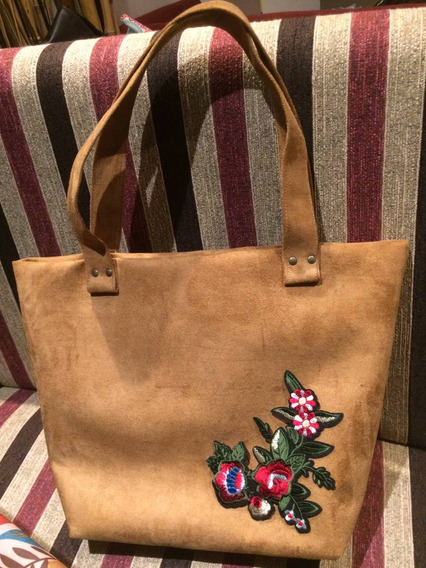cartera: (11, 1, 410, 563)
